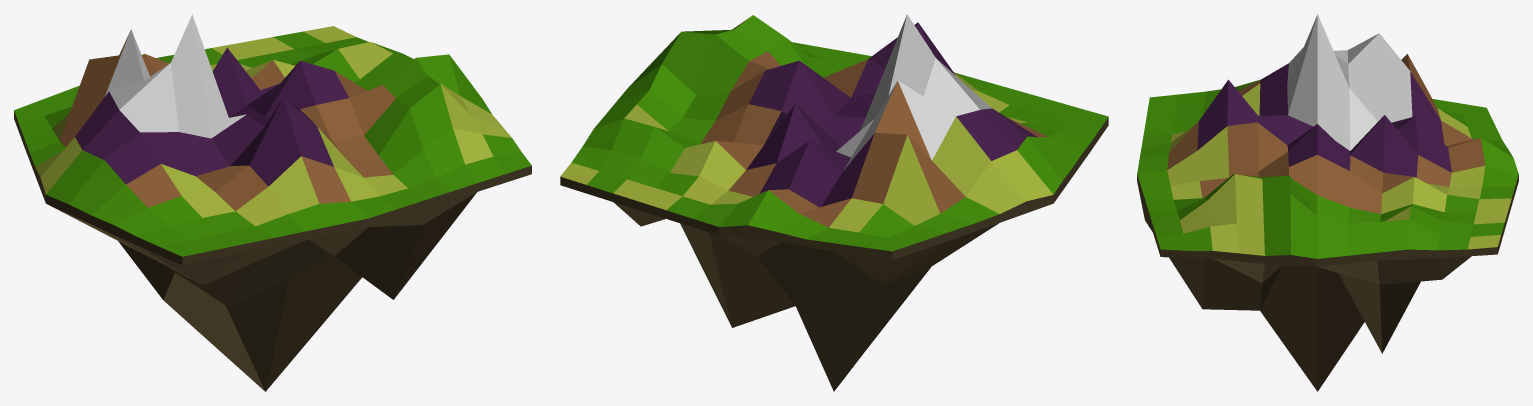
Rendered from Island Model.fbx.
The picture shows the model from 3 angles, left to right: view 1: azimuth 30°, elevation 25°; view 2: azimuth 150°, elevation 25°; view 3: azimuth 270°, elevation 25°; orthographic projection. The views are drawn at different scales.
Visible parts, largest first — view 1: Floating Island; view 2: Floating Island; view 3: Floating Island.
Boxes of the visible parts, box(x1,y1,x2,y2) form: Floating Island: box(14, 14, 531, 391); Floating Island: box(560, 14, 1108, 391); Floating Island: box(1137, 14, 1518, 391).
Bounding box in the file's own units: 18.08 × 16.03 × 16.
